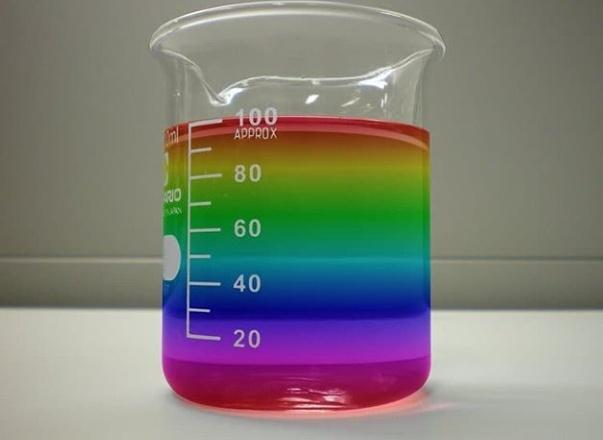Beaker: (131, 7, 465, 413)
